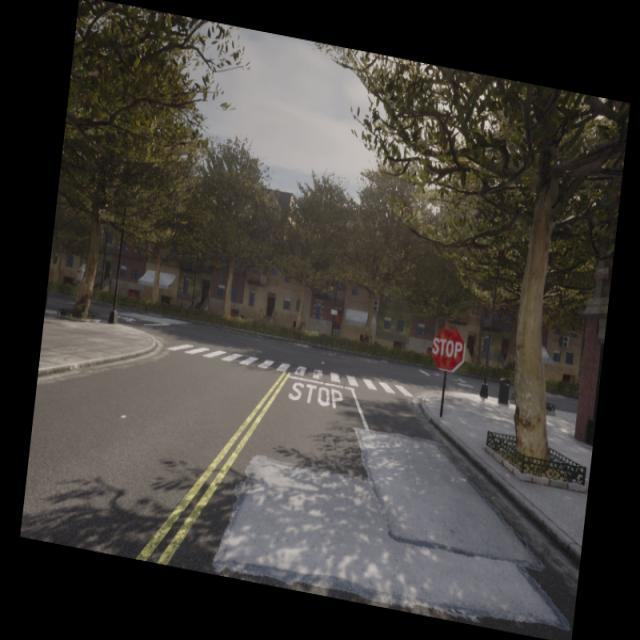stop sign: (429, 324, 467, 374)
